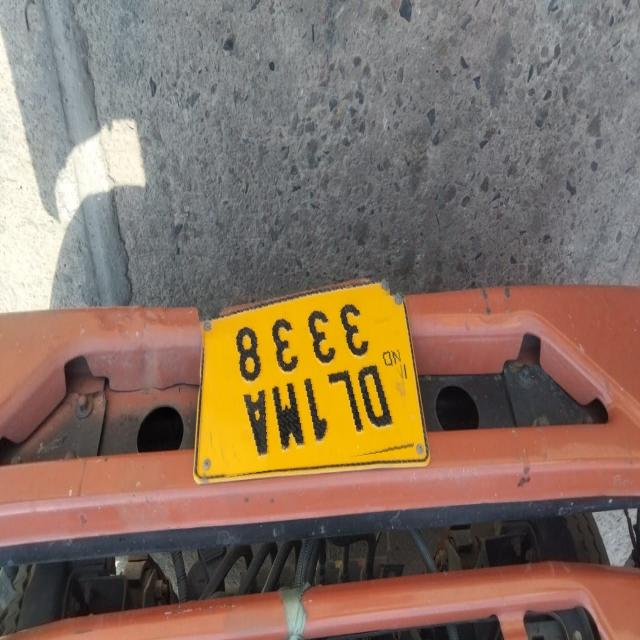License-plate: (203, 280, 408, 471)
